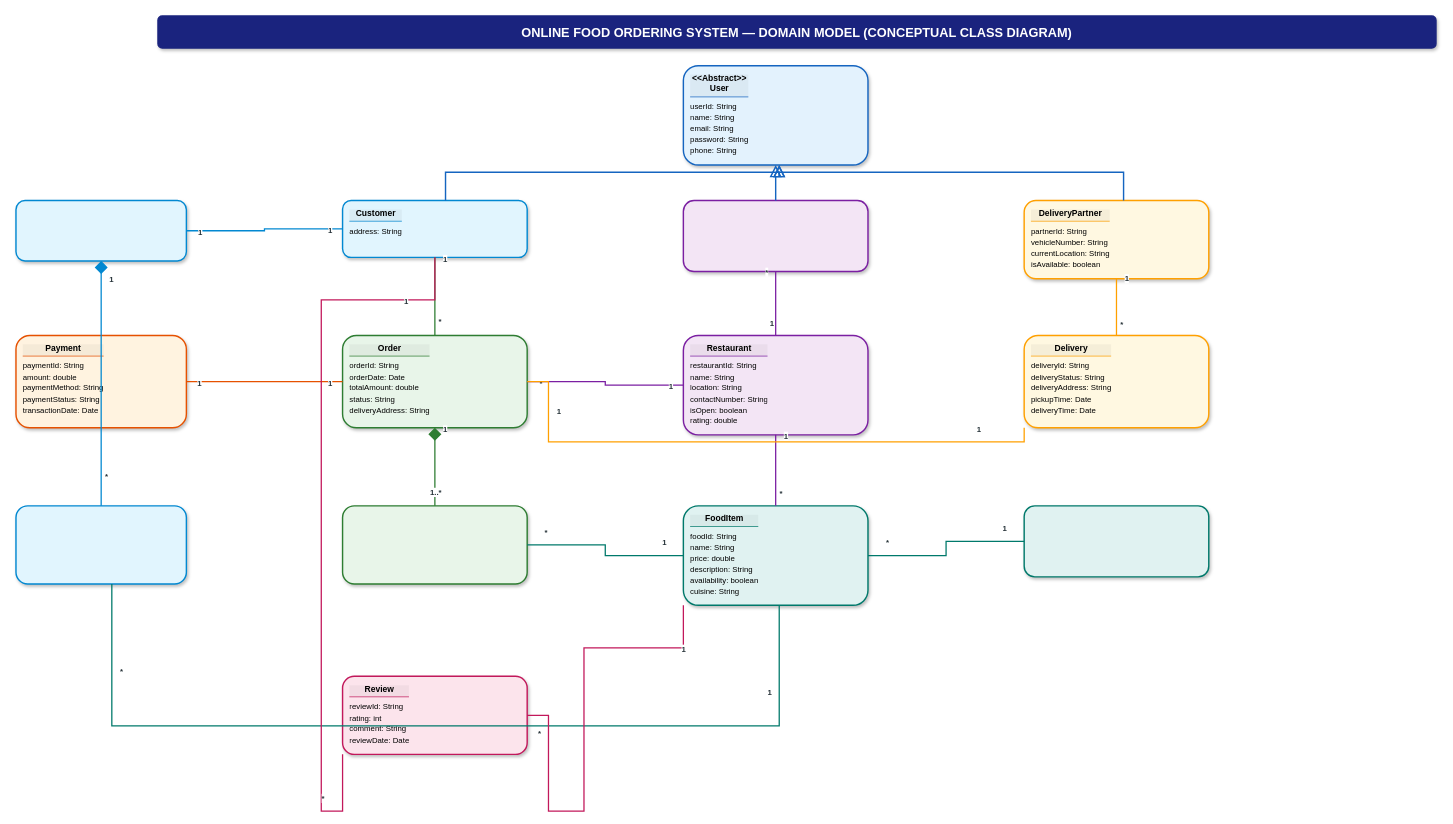
Some shapes in this 1453 by 824 pixel diagram are drawn without their labels. The centre of each missing label's shape, as x and y in pixels:
"Cart cartId: String totalAmount: double" goes at point 101,231.
"CartItem cartItemId: String quantity: int unitPrice: double subTotal: double" goes at point 101,545.
"Category categoryId: String name: String description: String" goes at point 1116,542.
"OrderItem orderItemId: String quantity: int price: double subTotal: double" goes at point 435,545.
"RestaurantStaff staffId: String restaurantId: String role: String" goes at point 776,237.
